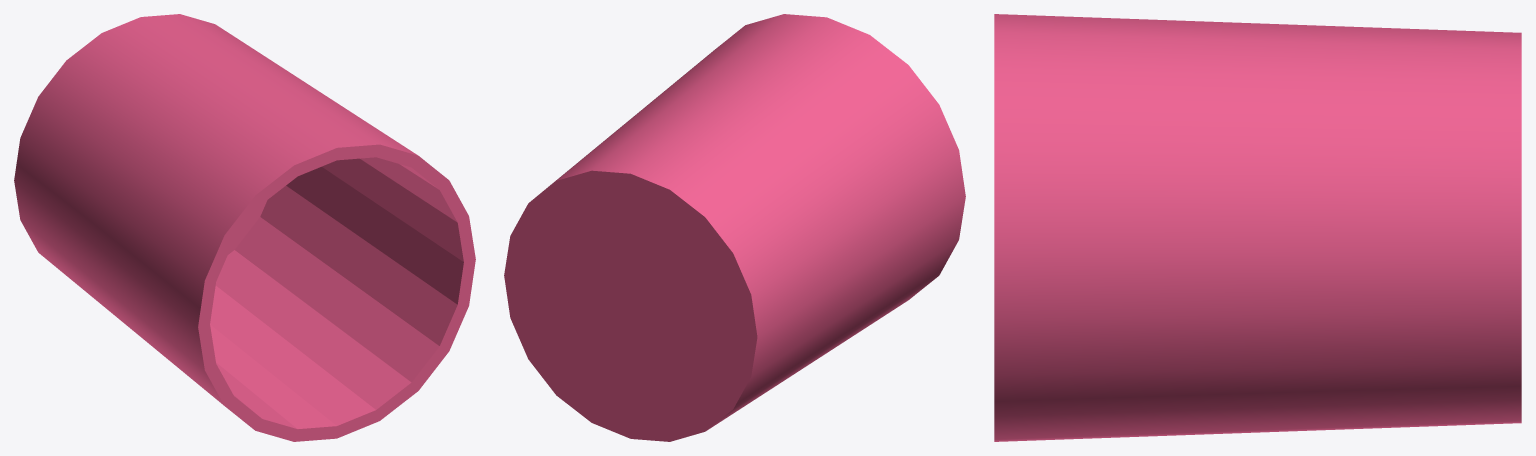
File: dechet-cup.glb
3 renders of one model, left to right at view 1: azimuth 30°, elevation 25°; view 2: azimuth 150°, elevation 25°; view 3: azimuth 270°, elevation 25°, orthographic. The views are drawn at different scales.
Parts seen in each view (by area): view 1: pCylinder9; view 2: pCylinder9; view 3: pCylinder9.
Part boxes in pixels (<box>): pCylinder9: <box>14,14,475,441</box>; pCylinder9: <box>504,14,965,441</box>; pCylinder9: <box>994,14,1521,441</box>.
Size of the model in its own units: 127 by 127 by 155.
